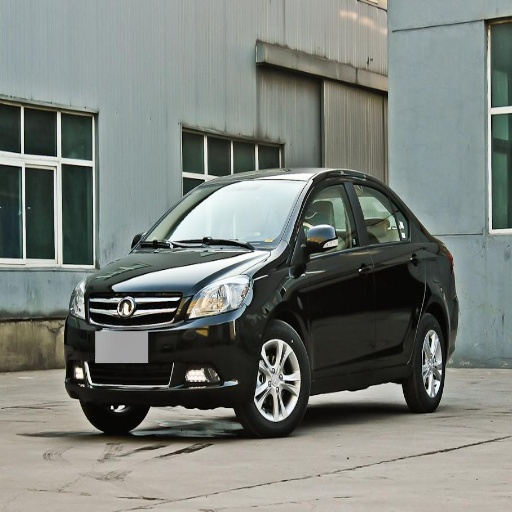front_bumper: (65, 276, 263, 407)
front_glass: (136, 180, 302, 248)
front_left_door: (298, 173, 375, 368)
